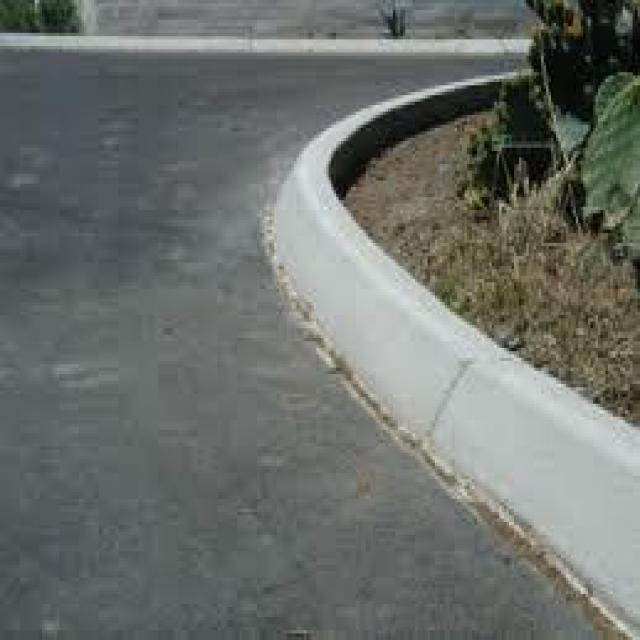curb: (389, 305, 640, 636), (278, 154, 423, 399), (4, 33, 539, 59)
